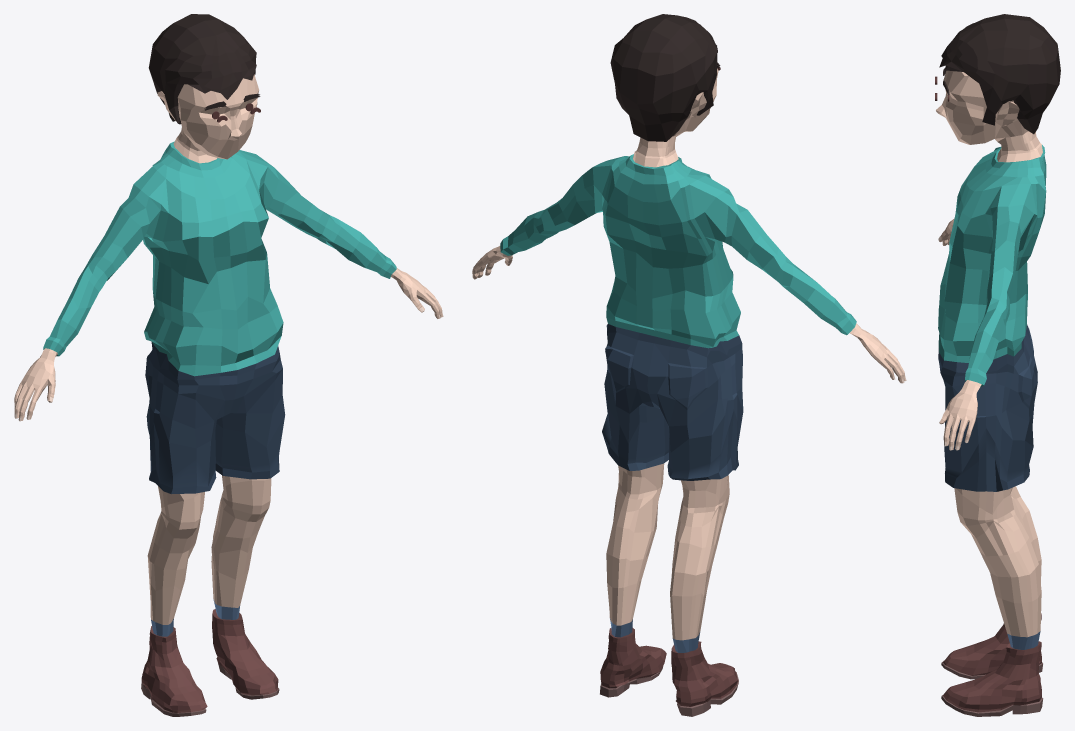
File: character_NPC_Mkid.fbx
3 views of the same model, side by side, from view 1: azimuth 30°, elevation 25°; view 2: azimuth 150°, elevation 25°; view 3: azimuth 270°, elevation 25° (orthographic).
Parts seen in each view (by area): view 1: charaBody_npcMkid_V01_geo, charaHair_NPC_M_V01_geo2, charaHair_NPC_M_V02_geo; view 2: charaBody_npcMkid_V01_geo, charaHair_NPC_M_V01_geo2, charaHair_NPC_M_V02_geo; view 3: charaBody_npcMkid_V01_geo, charaHair_NPC_M_V02_geo, charaHair_NPC_M_V01_geo2.
Part boxes in pixels (left/top/right/bottom): charaBody_npcMkid_V01_geo: left=14, top=74, right=443, bottom=716; charaHair_NPC_M_V01_geo2: left=148, top=14, right=256, bottom=123; charaHair_NPC_M_V02_geo: left=170, top=14, right=256, bottom=124; charaBody_npcMkid_V01_geo: left=472, top=68, right=906, bottom=716; charaHair_NPC_M_V01_geo2: left=637, top=15, right=717, bottom=141; charaHair_NPC_M_V02_geo: left=610, top=14, right=717, bottom=140; charaBody_npcMkid_V01_geo: left=936, top=70, right=1046, bottom=716; charaHair_NPC_M_V02_geo: left=939, top=18, right=1060, bottom=134; charaHair_NPC_M_V01_geo2: left=941, top=14, right=1060, bottom=118.
Size of the model in its own units: 211 by 317 by 53.8.
